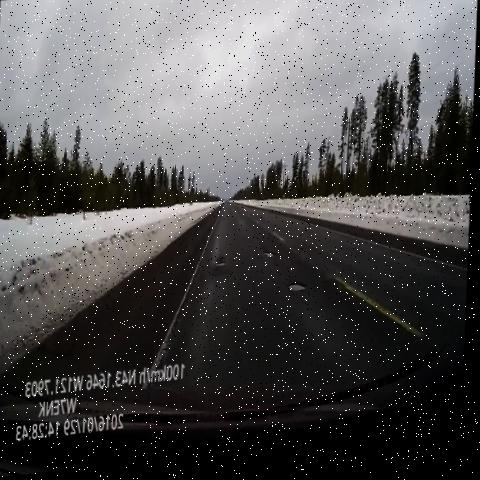pothole: (210, 252, 234, 294), (286, 275, 311, 313), (261, 246, 282, 277), (293, 247, 313, 268)
